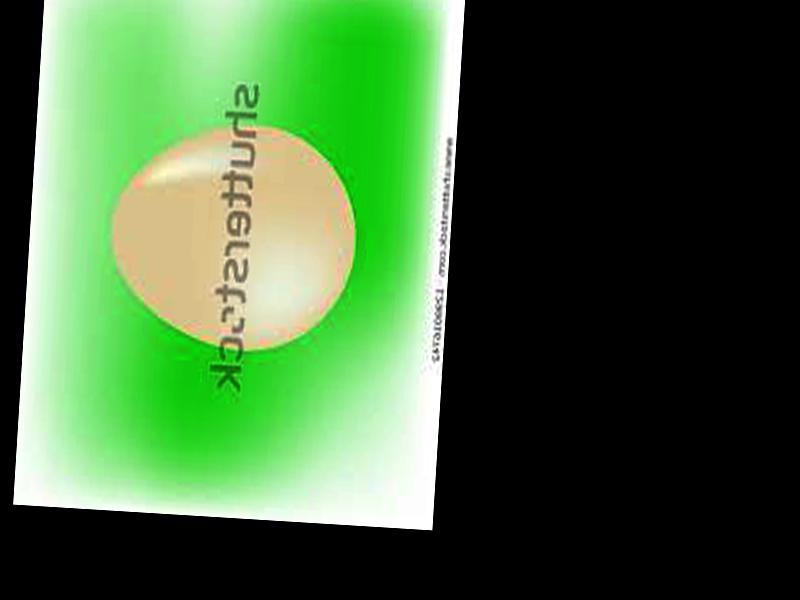Eggs: (104, 117, 361, 357)
